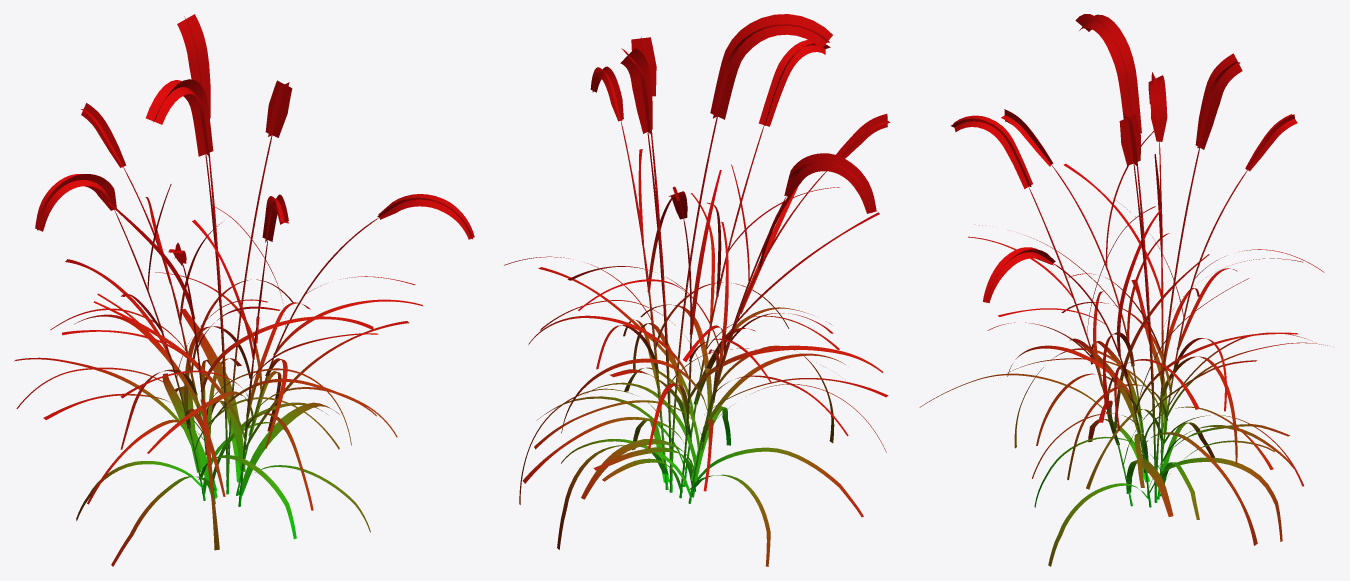
The model's file is slglZ_Var3_LOD0.fbx.
3 views of the same model, side by side, from view 1: azimuth 30°, elevation 25°; view 2: azimuth 150°, elevation 25°; view 3: azimuth 270°, elevation 25° (orthographic). The views are drawn at different scales.
Visible parts, largest first — view 1: _927f_Var3_LOD0; view 2: _927f_Var3_LOD0; view 3: _927f_Var3_LOD0.
Boxes of the visible parts, left/top/right/bottom form: _927f_Var3_LOD0: left=14, top=14, right=474, bottom=566; _927f_Var3_LOD0: left=504, top=14, right=890, bottom=566; _927f_Var3_LOD0: left=919, top=14, right=1333, bottom=566.
Bounding box in the file's own units: 37.43 × 45.49 × 36.7.
